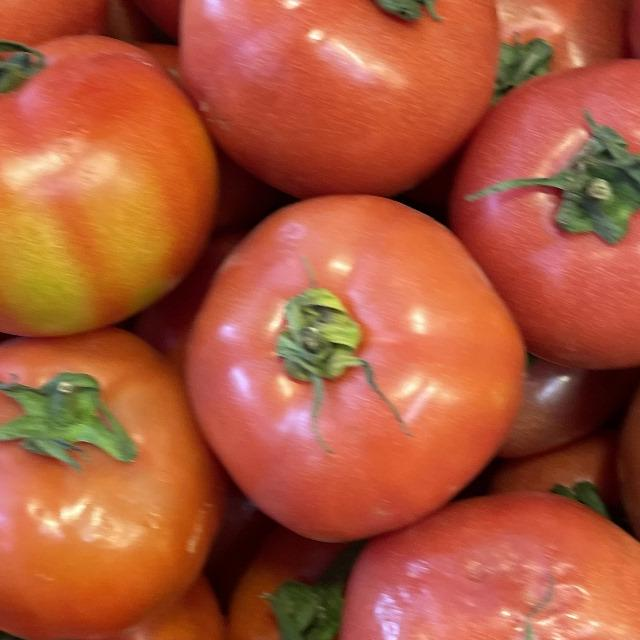tomato: (172, 175, 528, 520), (0, 305, 222, 630), (185, 0, 505, 200), (0, 22, 205, 325), (455, 35, 640, 360), (317, 477, 640, 640)
